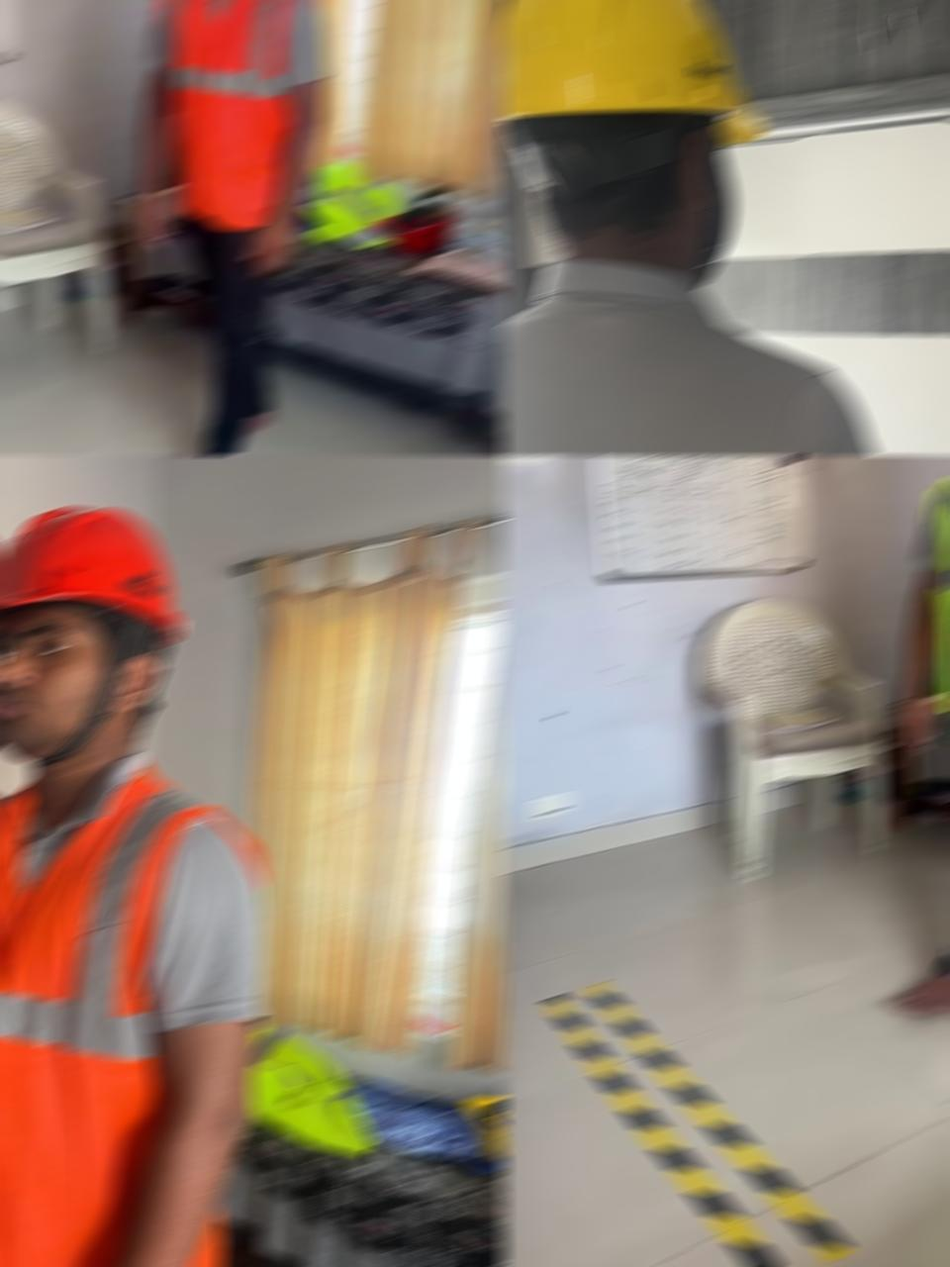BorderLine: (539, 982, 855, 1266)
Helmet: (499, 1, 766, 143), (0, 507, 188, 643)
No_Vest: (499, 262, 922, 454)
Person: (0, 505, 269, 1266), (499, 1, 922, 454), (130, 1, 334, 454), (897, 456, 950, 1013)
Vest: (0, 756, 271, 1266), (154, 1, 322, 233)
